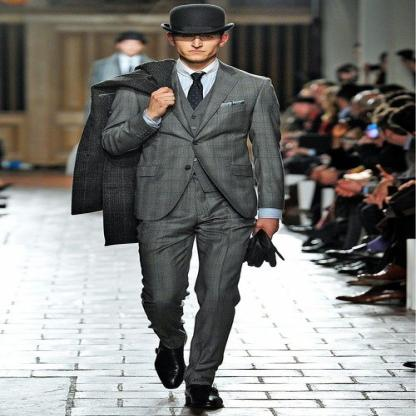hat: (152, 2, 242, 38)
